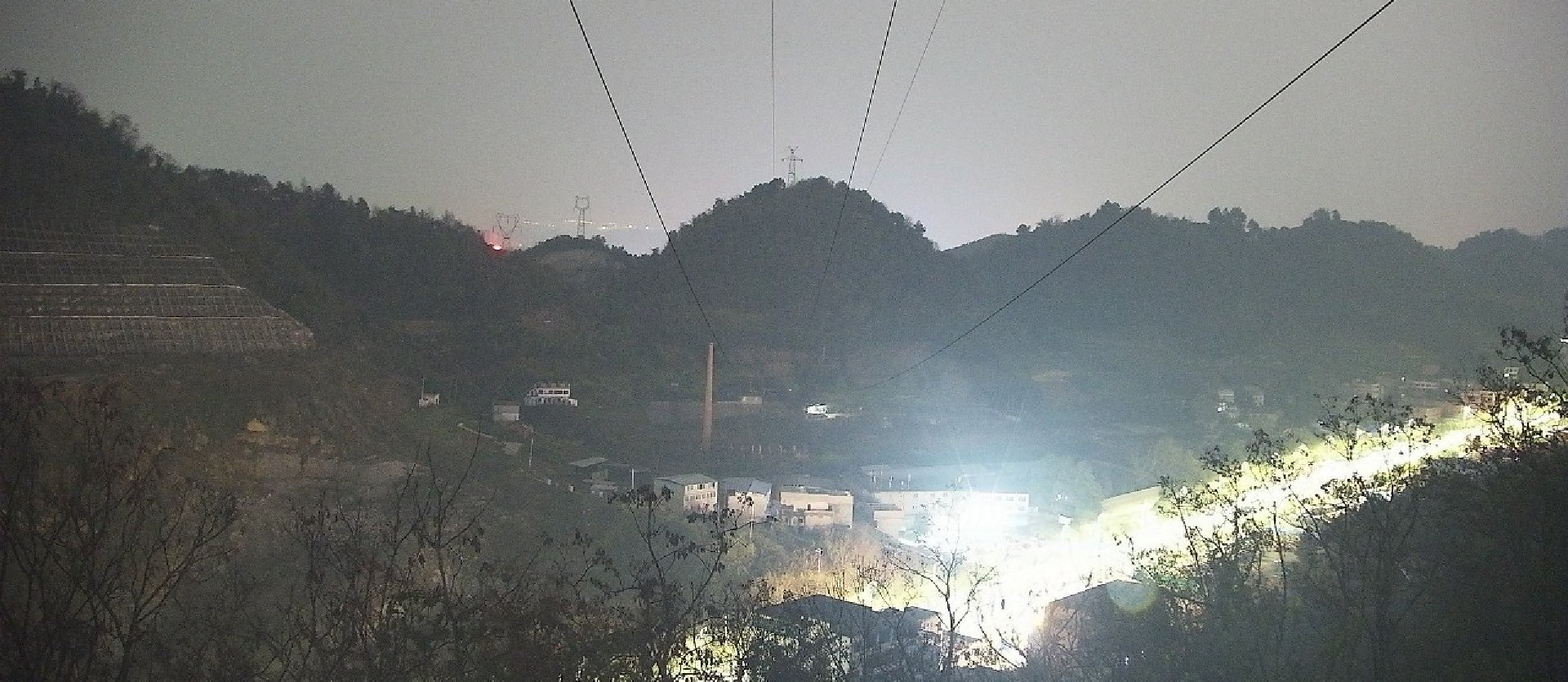过爆灯光: (1133, 395, 1567, 583), (858, 487, 1134, 669)
